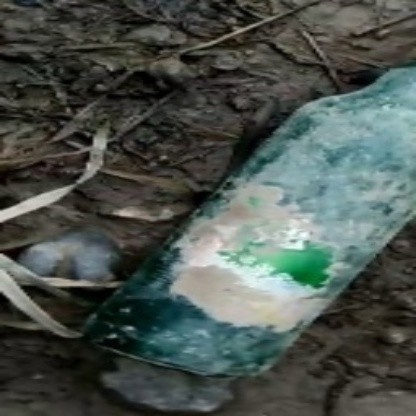bottle: (82, 47, 414, 378)
